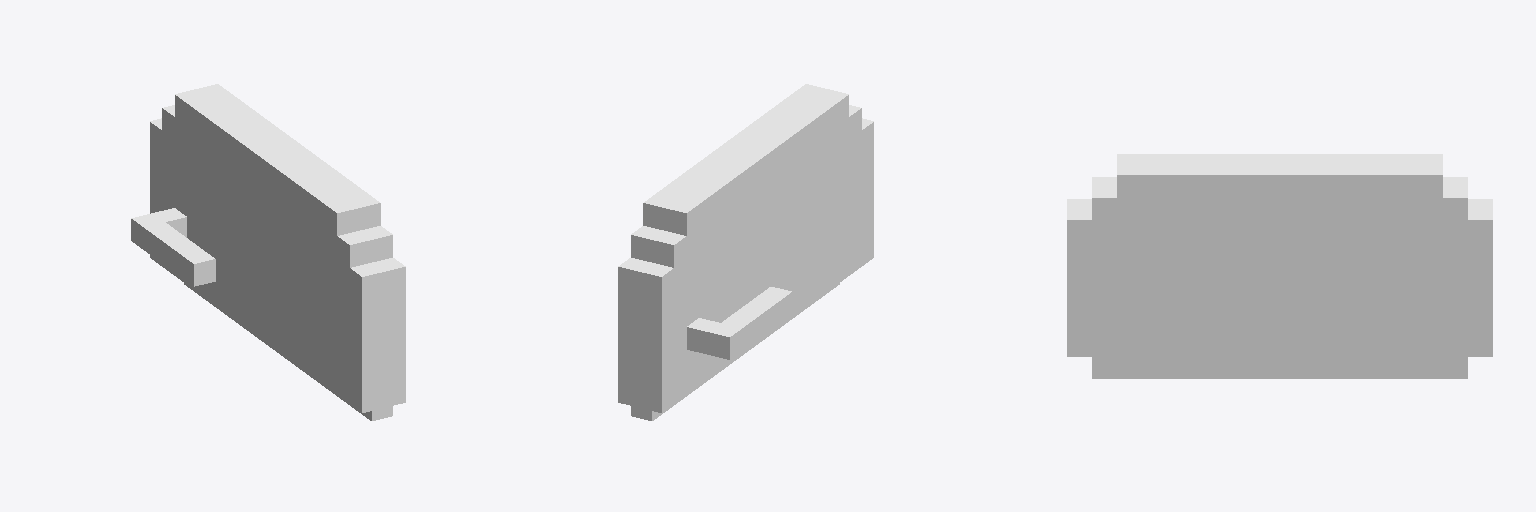
The model's file is Kitchen_cabinets-24.obj.
3 renders of one model, left to right at view 1: azimuth 30°, elevation 25°; view 2: azimuth 150°, elevation 25°; view 3: azimuth 270°, elevation 25°, orthographic.
Visible parts, largest first — view 1: object 1; view 2: object 1; view 3: object 1.
Part boxes in pixels (bbox=[...]): object 1: bbox=[131, 84, 405, 420]; object 1: bbox=[618, 84, 873, 420]; object 1: bbox=[1067, 154, 1492, 378].
Size of the model in its own units: 0.4 by 0.9 by 1.7.